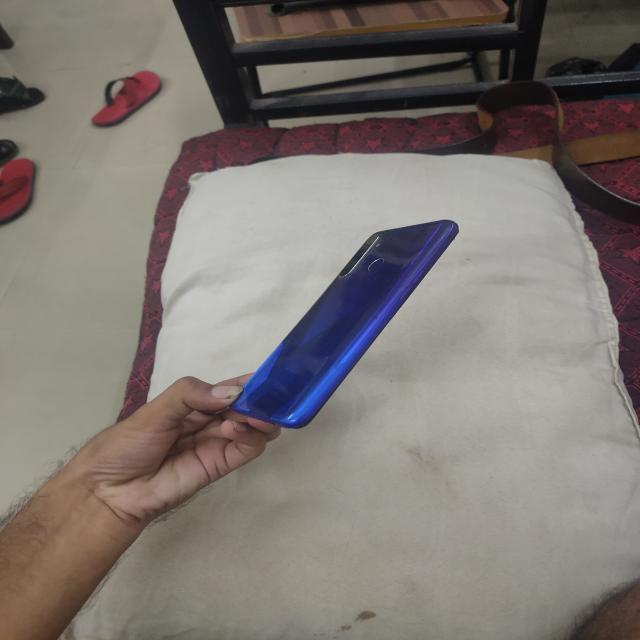Phone: (218, 216, 466, 435)
